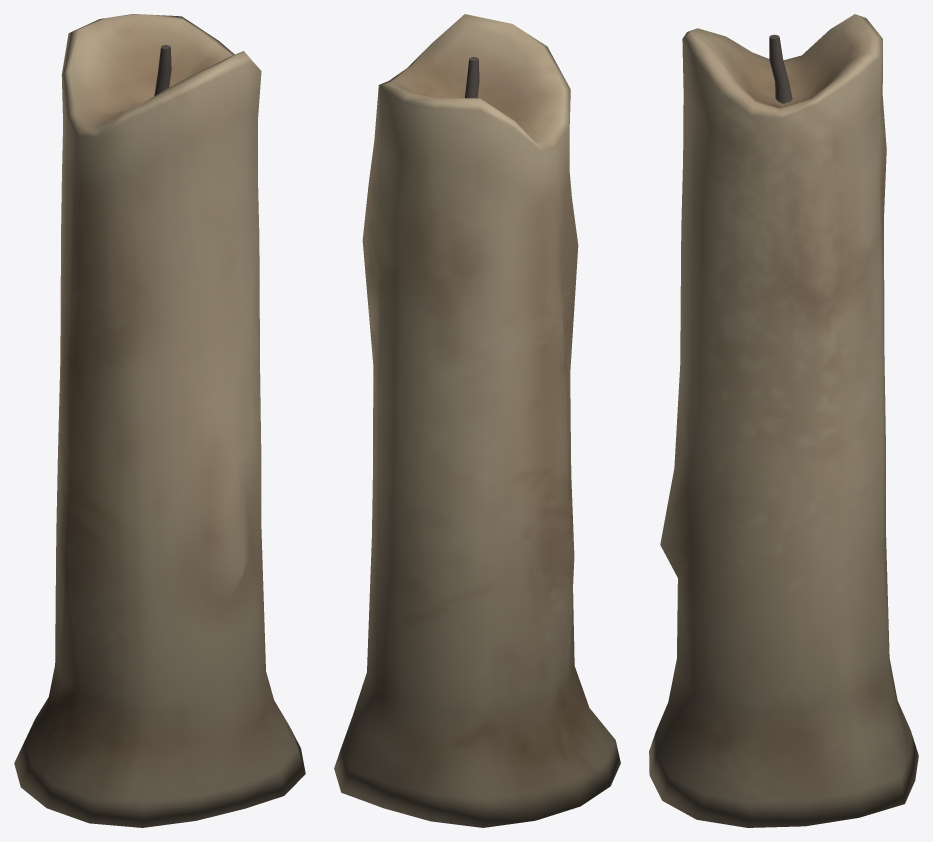
Rendered from SM_candleB_a1.fbx.
3 renders of one model, left to right at view 1: azimuth 30°, elevation 25°; view 2: azimuth 150°, elevation 25°; view 3: azimuth 270°, elevation 25°, orthographic. The views are drawn at different scales.
Visible parts, largest first — view 1: SM_candleB_a1_LOD0; view 2: SM_candleB_a1_LOD0; view 3: SM_candleB_a1_LOD0.
Boxes of the visible parts, x1=… form: SM_candleB_a1_LOD0: x1=14, y1=14, x2=305, y2=827; SM_candleB_a1_LOD0: x1=334, y1=14, x2=620, y2=827; SM_candleB_a1_LOD0: x1=649, y1=14, x2=918, y2=827.
Bounding box in the file's own units: 8.01 × 7.34 × 22.32.
Materials: 1 (1 with a texture image).
